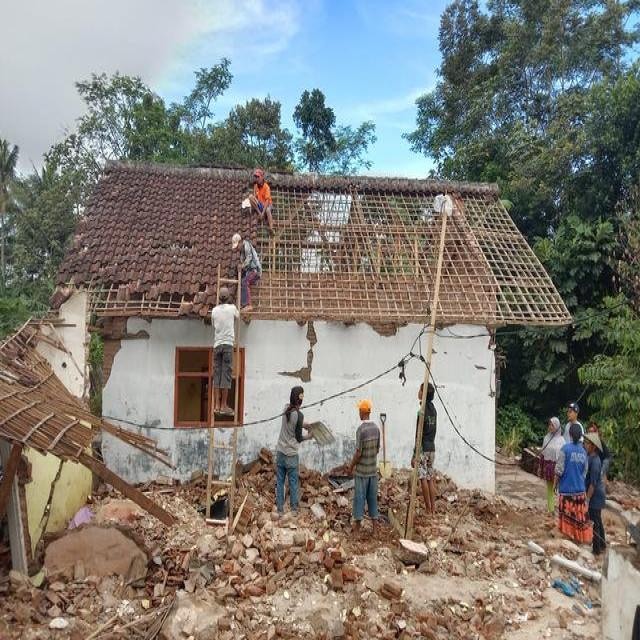damage: (0, 461, 640, 640)
